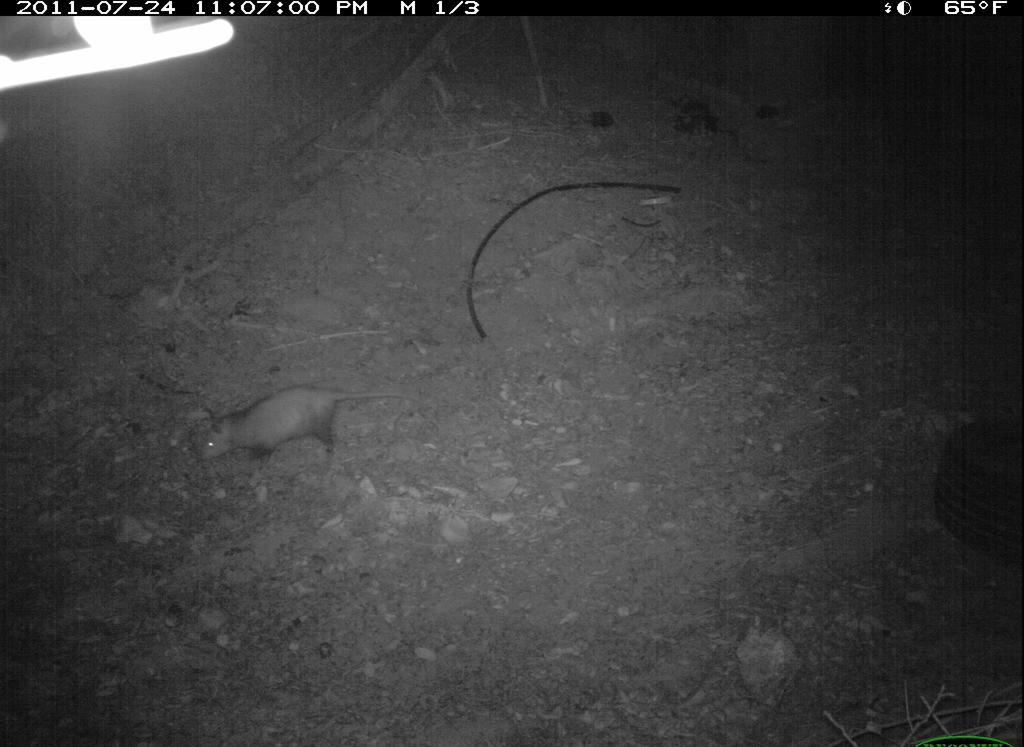opossum: (193, 382, 417, 483)
